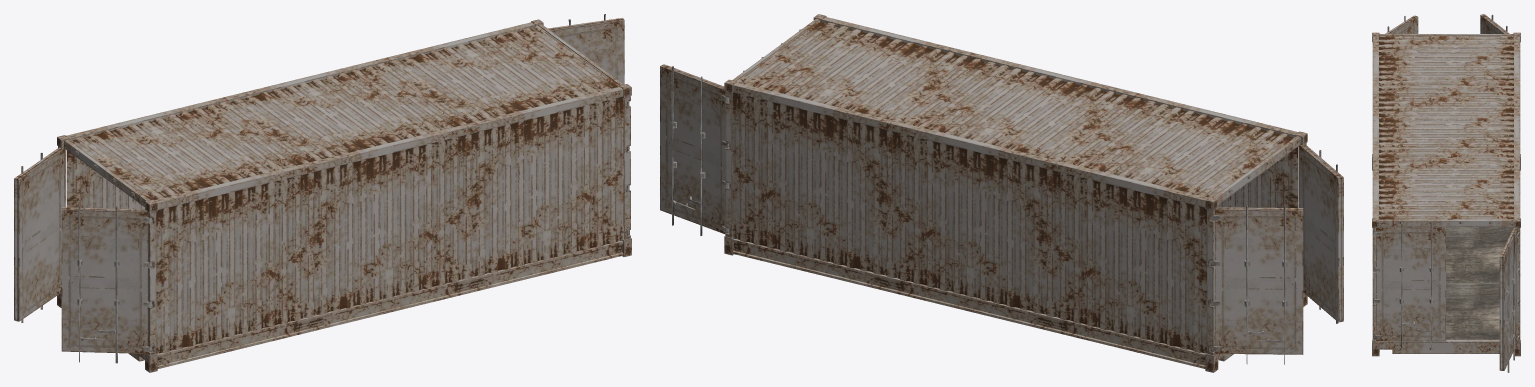
The model's file is shipping_container_900_b_white.glb.
The picture shows the model from 3 angles, left to right: view 1: azimuth 30°, elevation 25°; view 2: azimuth 150°, elevation 25°; view 3: azimuth 270°, elevation 25°; orthographic projection. The views are drawn at different scales.
Visible parts, largest first — view 1: shipping_container_900_b_LOD0; view 2: shipping_container_900_b_LOD0; view 3: shipping_container_900_b_LOD0.
Part boxes in pixels (box(x1,y1,x2,y2)): shipping_container_900_b_LOD0: box(14, 14, 631, 372); shipping_container_900_b_LOD0: box(660, 14, 1343, 372); shipping_container_900_b_LOD0: box(1372, 14, 1520, 372).
Bounding box in the file's own units: 11.6 × 3 × 3.
2 materials, 2 textured.
